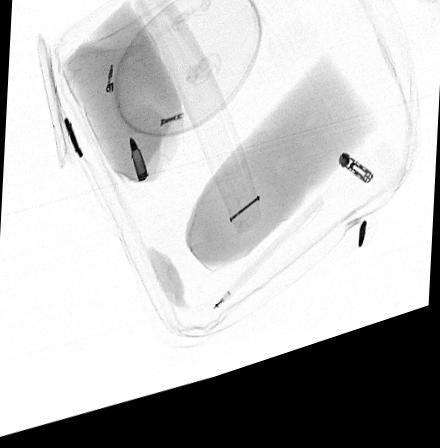Bullet: (128, 144, 147, 190)
